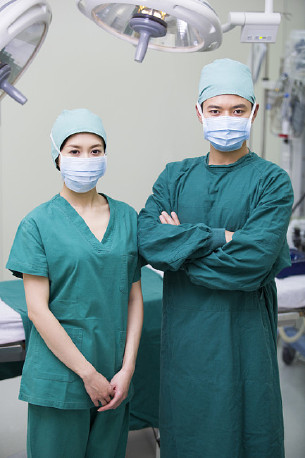face_mask: (203, 84, 249, 153), (60, 131, 104, 192)
